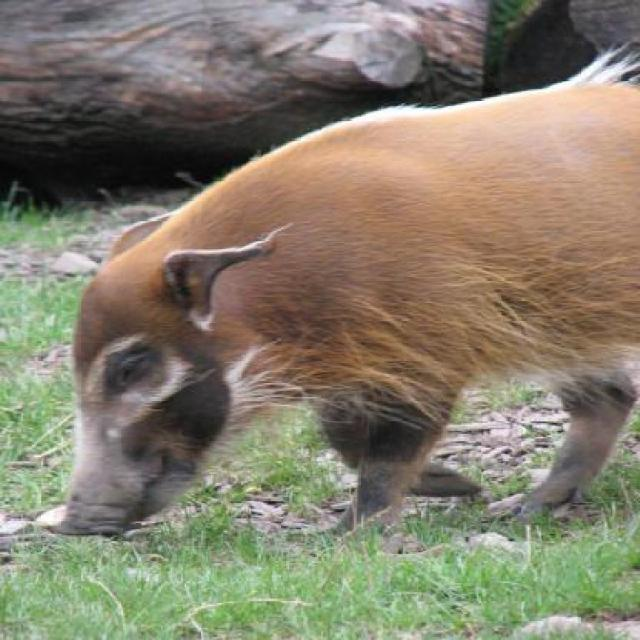pig: (43, 35, 639, 542)
